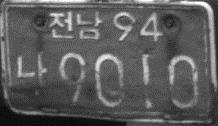0: (167, 52, 200, 111), (94, 52, 126, 108)
1: (137, 50, 156, 109)
4: (138, 9, 164, 45)
9: (58, 51, 89, 105), (113, 9, 135, 42)
나: (15, 52, 48, 92)
전남_O: (48, 10, 103, 41)
